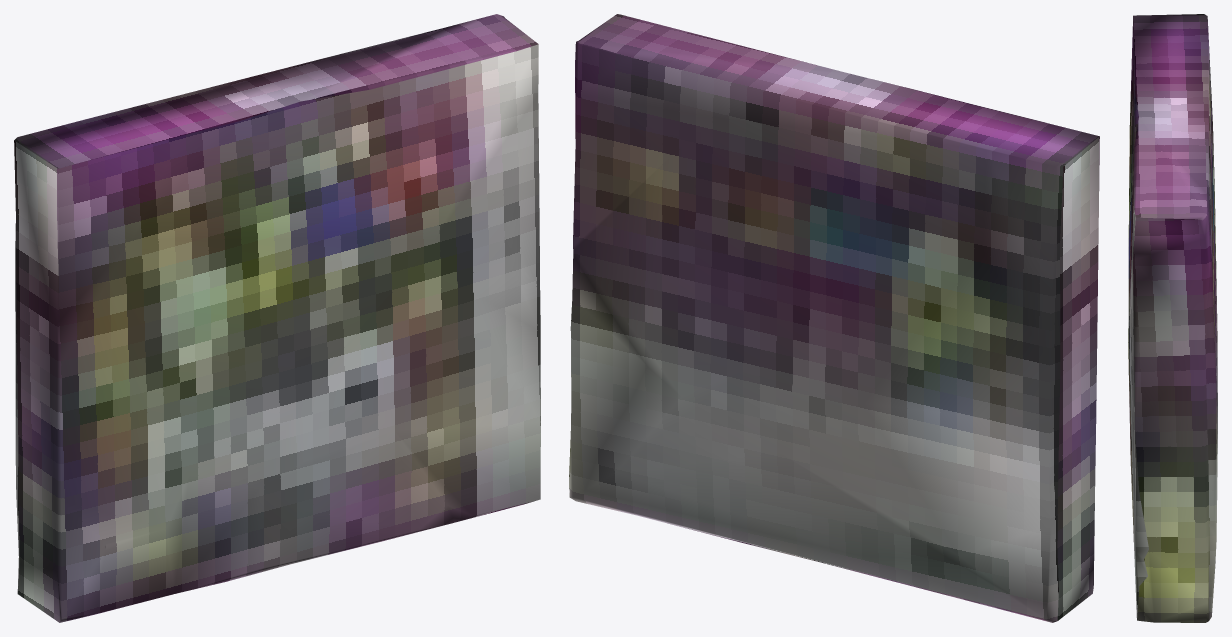
File: Persona_Q_Shadow_of_the_Labyrinth_Nintendo_3DS-low.glb
3 views of the same model, side by side, from view 1: azimuth 30°, elevation 25°; view 2: azimuth 150°, elevation 25°; view 3: azimuth 270°, elevation 25° (orthographic). The views are drawn at different scales.
Parts seen in each view (by area): view 1: Persona_Q_Shadow_of_the_Labyrinth_Nintendo_3DS; view 2: Persona_Q_Shadow_of_the_Labyrinth_Nintendo_3DS; view 3: Persona_Q_Shadow_of_the_Labyrinth_Nintendo_3DS.
Part boxes in pixels (x1=…): Persona_Q_Shadow_of_the_Labyrinth_Nintendo_3DS: x1=14, y1=14, x2=540, y2=622; Persona_Q_Shadow_of_the_Labyrinth_Nintendo_3DS: x1=569, y1=14, x2=1099, y2=622; Persona_Q_Shadow_of_the_Labyrinth_Nintendo_3DS: x1=1128, y1=14, x2=1217, y2=622.
Bounding box in the file's own units: 0.142 × 0.1286 × 0.0254.
1 material, 1 textured.
